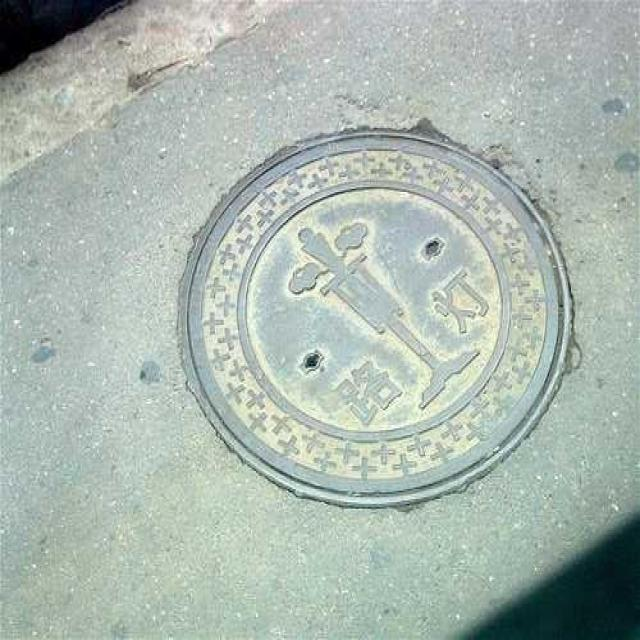manhole: (180, 131, 573, 506)
